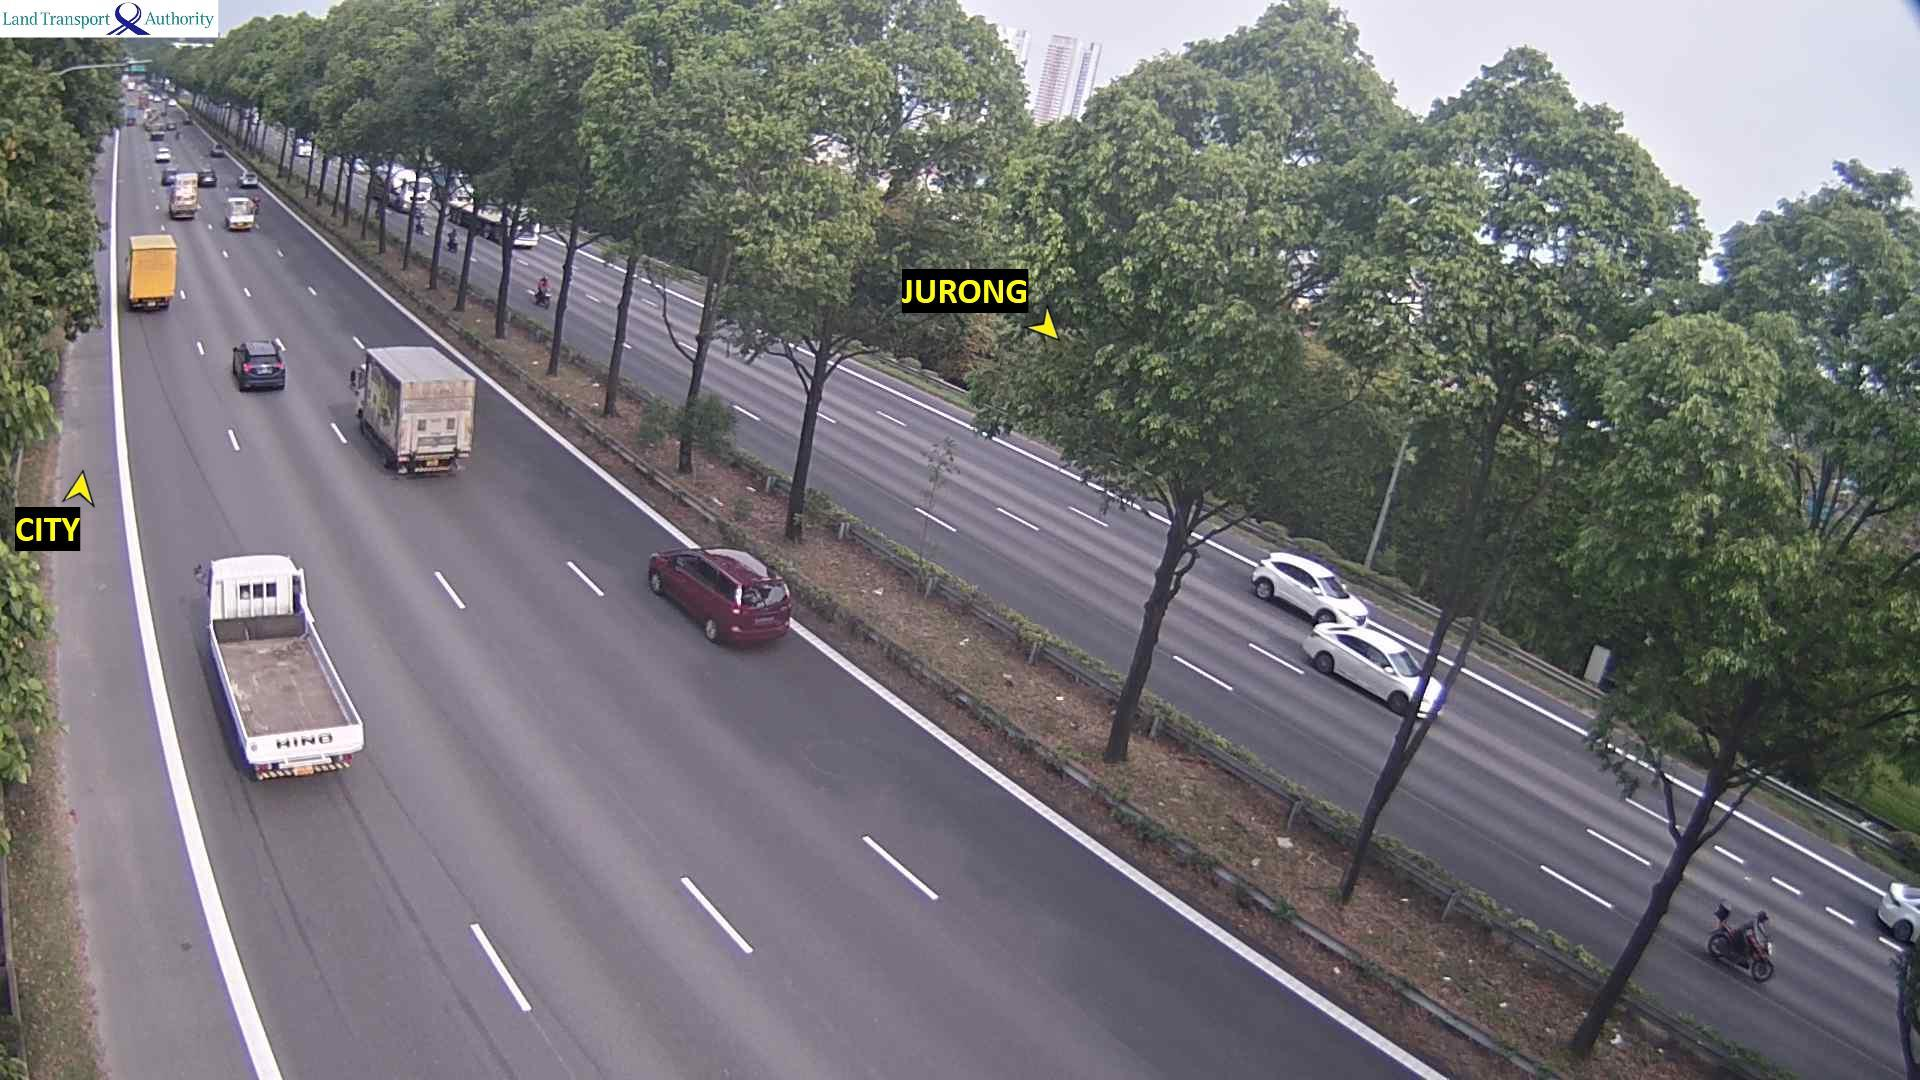cars: (646, 545, 793, 647), (1300, 620, 1445, 717), (1247, 550, 1369, 626), (229, 338, 286, 392), (1875, 880, 1919, 942), (224, 194, 257, 231), (345, 156, 371, 174), (293, 137, 313, 157), (196, 167, 216, 186), (237, 170, 257, 187), (161, 165, 178, 185), (153, 145, 171, 162), (146, 128, 164, 141), (208, 142, 223, 157), (181, 113, 194, 125), (166, 120, 178, 131), (167, 96, 177, 107), (152, 95, 162, 104), (161, 92, 169, 100)
motorcycle: (1706, 901, 1775, 982), (527, 285, 551, 309), (444, 227, 460, 252), (413, 210, 429, 235)
trucks: (203, 553, 364, 781), (349, 342, 476, 476), (448, 182, 541, 249), (125, 233, 177, 311), (369, 160, 433, 214), (167, 173, 199, 219), (144, 108, 171, 131), (123, 105, 137, 127), (138, 95, 149, 109), (128, 82, 136, 94)
